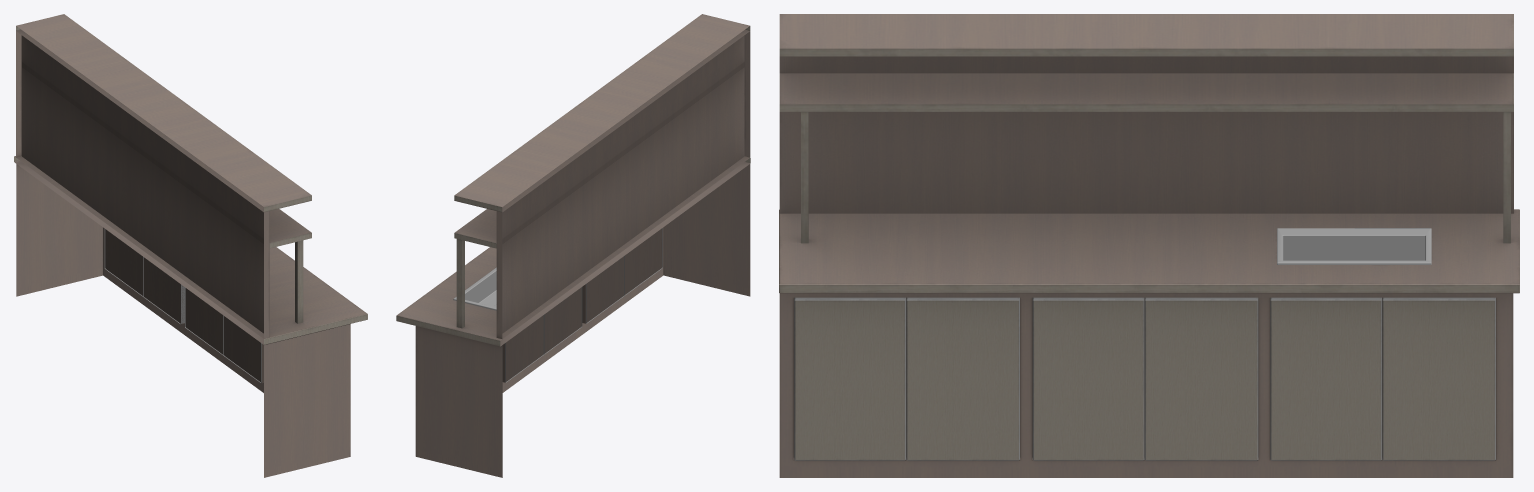
Rendered from LabSet.fbx.
The picture shows the model from 3 angles, left to right: view 1: azimuth 30°, elevation 25°; view 2: azimuth 150°, elevation 25°; view 3: azimuth 270°, elevation 25°; orthographic projection. The views are drawn at different scales.
Visible parts, largest first — view 1: LabSet1; view 2: LabSet1, Sink; view 3: LabSet1, Sink.
Boxes of the visible parts, box(x1,y1,x2,y2) form: LabSet1: box(14, 14, 367, 477); LabSet1: box(396, 14, 750, 477); Sink: box(453, 267, 496, 310); LabSet1: box(779, 14, 1519, 477); Sink: box(1277, 228, 1431, 264).
Bounding box in the file's own units: 67.2 × 167 × 280.
